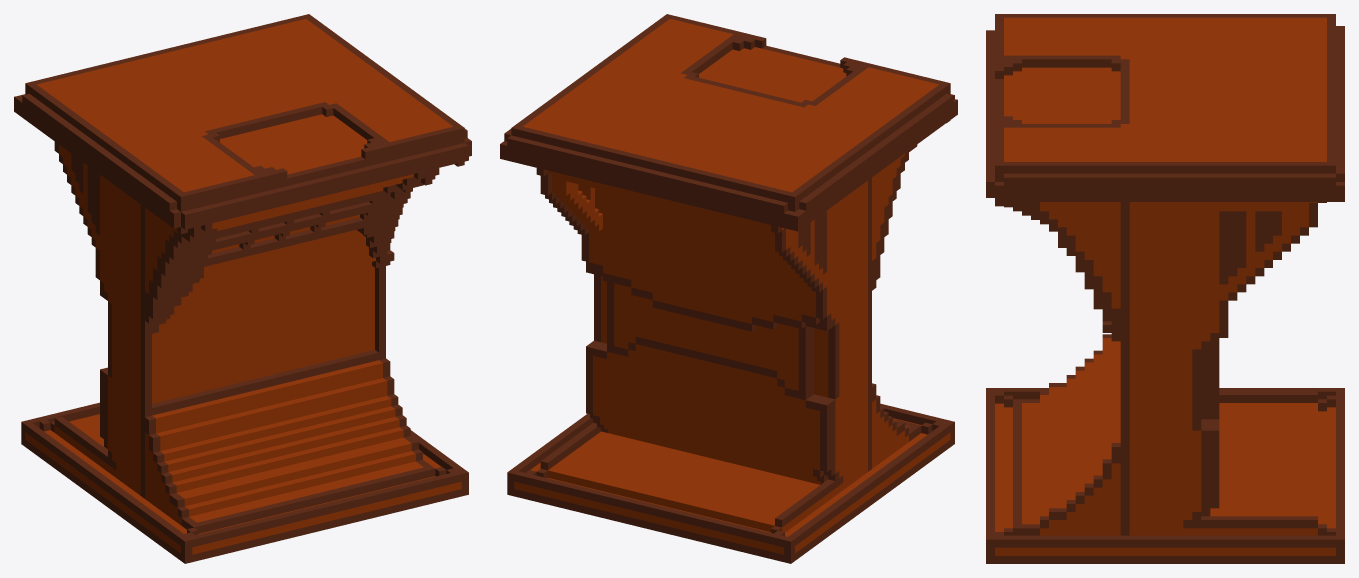
The model's file is Table0.obj.
3 views of the same model, side by side, from view 1: azimuth 30°, elevation 25°; view 2: azimuth 150°, elevation 25°; view 3: azimuth 270°, elevation 25° (orthographic). The views are drawn at different scales.
Bounding box in the file's own units: 4.2 × 4.9 × 4.
Materials: 1 (1 with a texture image).
